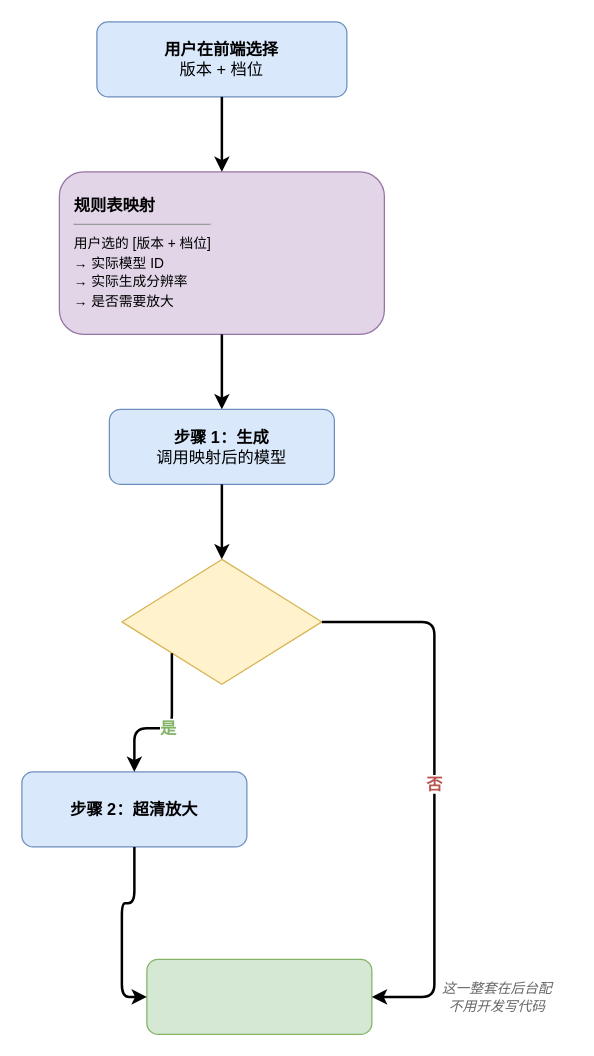
Some shapes in this 594 by 1056 pixel diagram are drawn without their labels. The shapes that lost their labels are listed below. From the top down, each one's centre as x and y in pixels, then its label:
At (221,621): "需要放大？".
At (259,996): "最终产物 给用户的成品".
